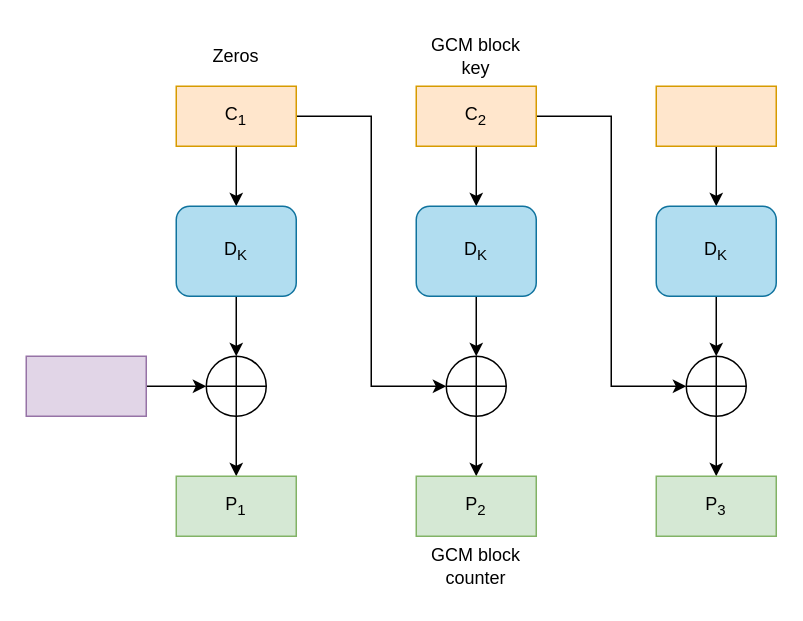
Image size: 803x621. Some labels were removed from this diagram. The centre of each missing label's shape, as x and y in pixels:
C 3: pixel 715 115
IV: pixel 85 385
